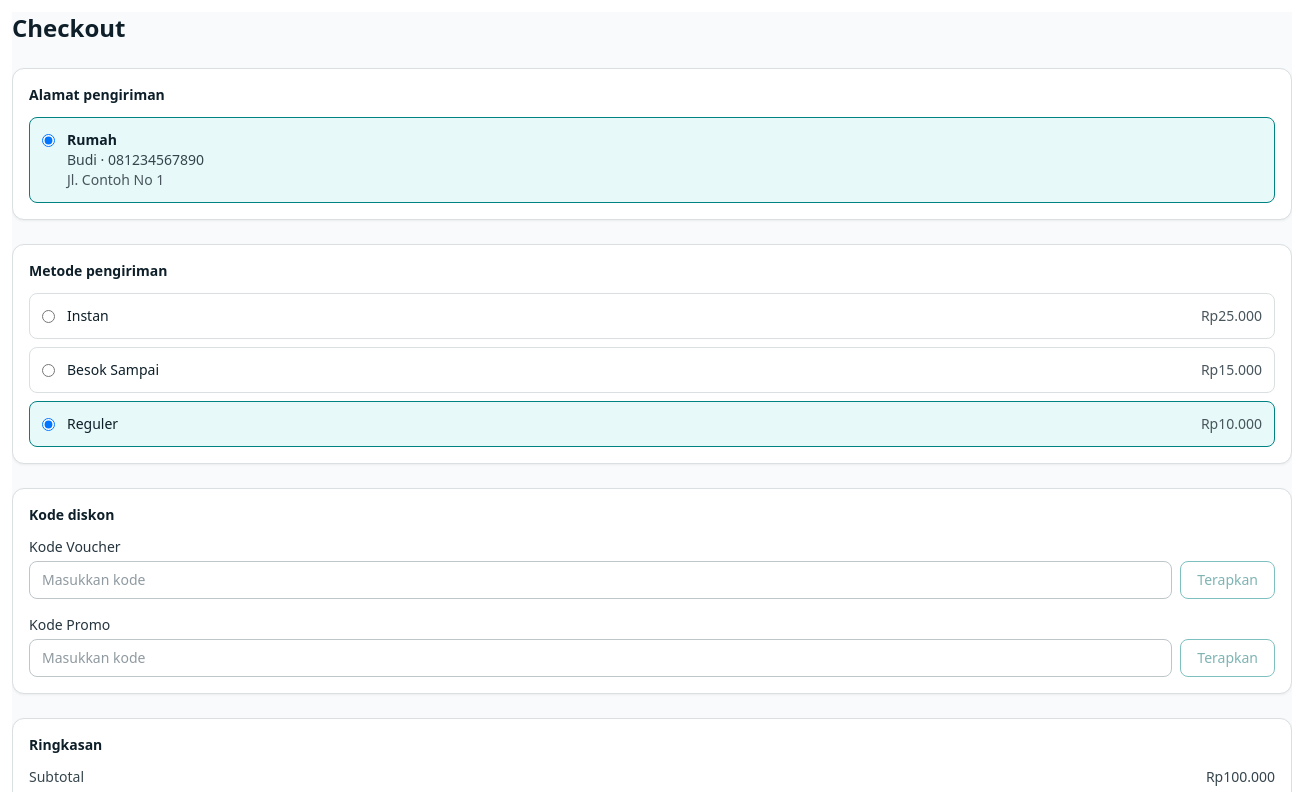
Test case: Checkout discount code apply flow › shows the backend message inline on 409 DISCOUNT_EXPIRED and does not pass the code to the preview
This screenshot has width=1292, height=792.
Type "EXPIRED1" into the field labelled "Kode Voucher".
click(601, 580); type("EXPIRED1")  # box [29,561,1172,599]
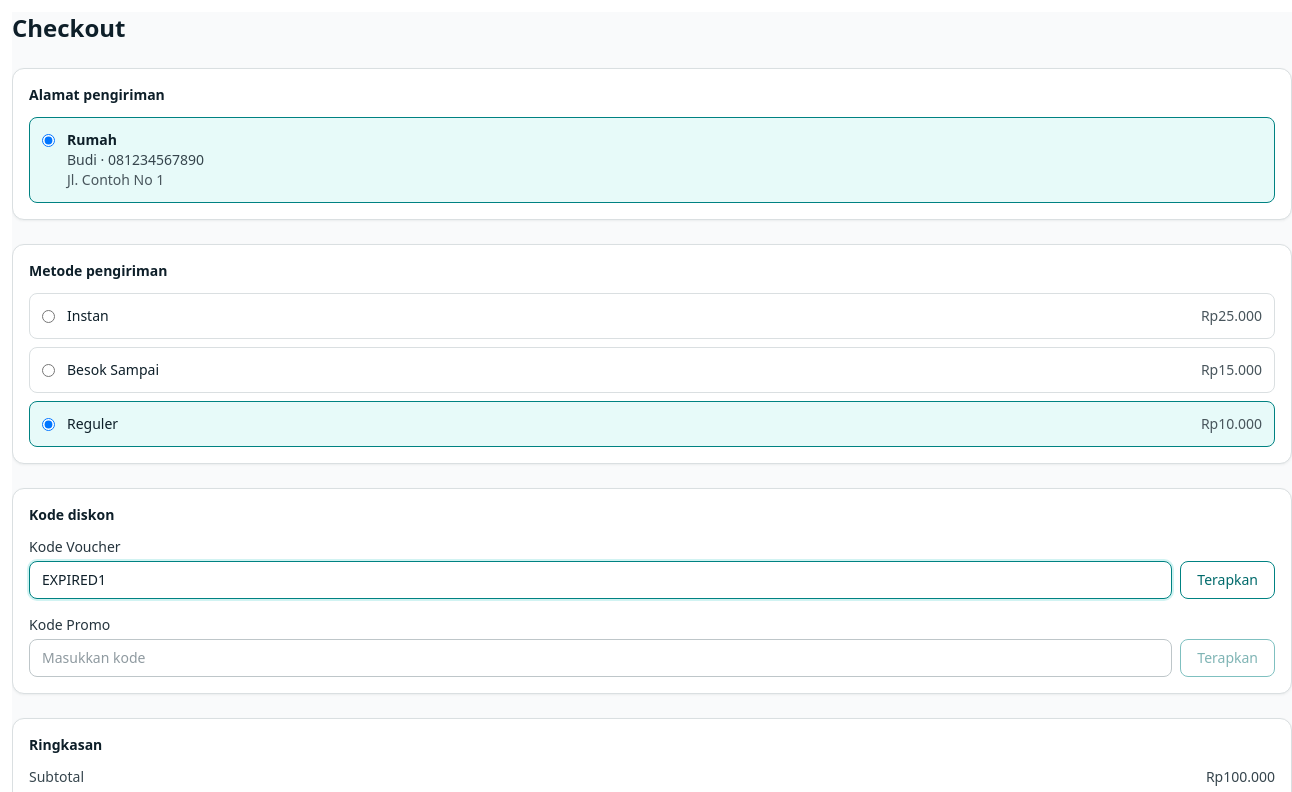
Click the 1st button "Terapkan".
click(1228, 580)  # box [1180,561,1275,599]
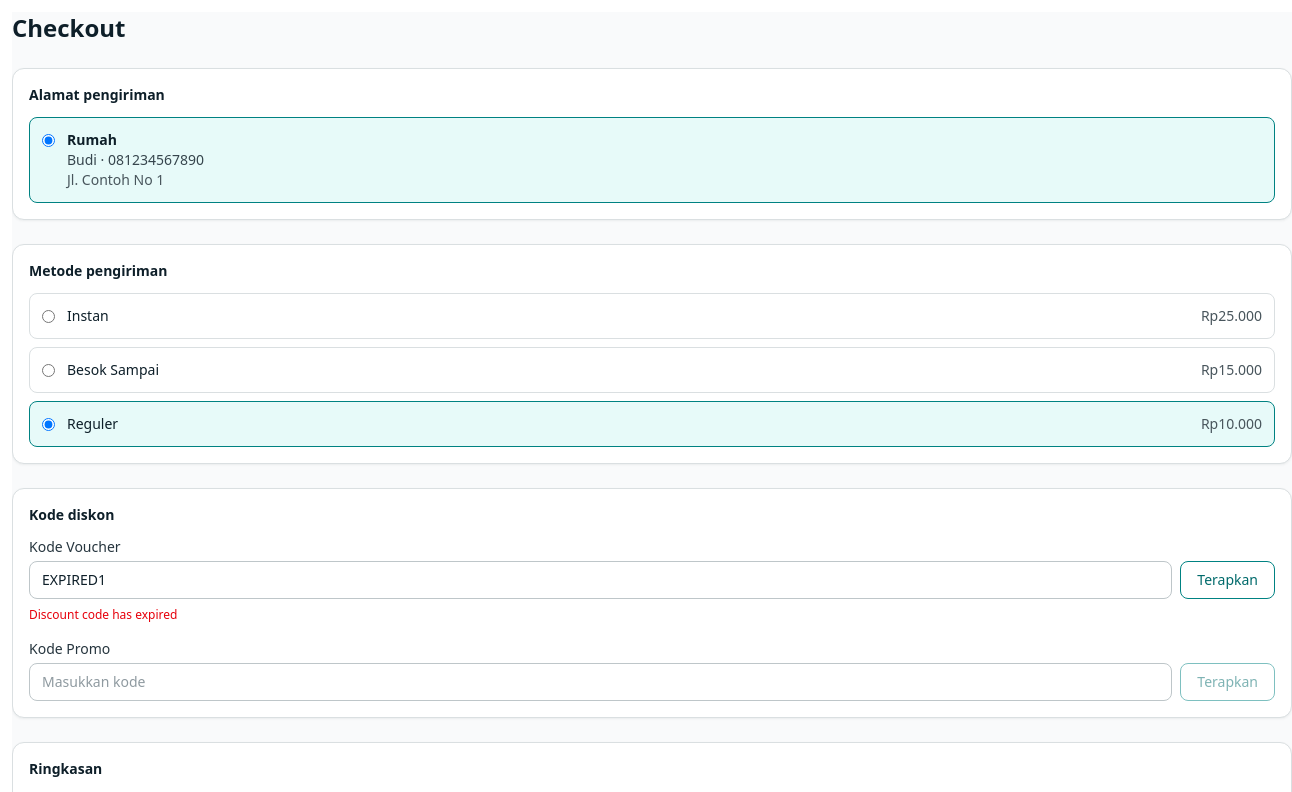
Result: the text "Discount code has expired" is shown at [29,606,177,623]
